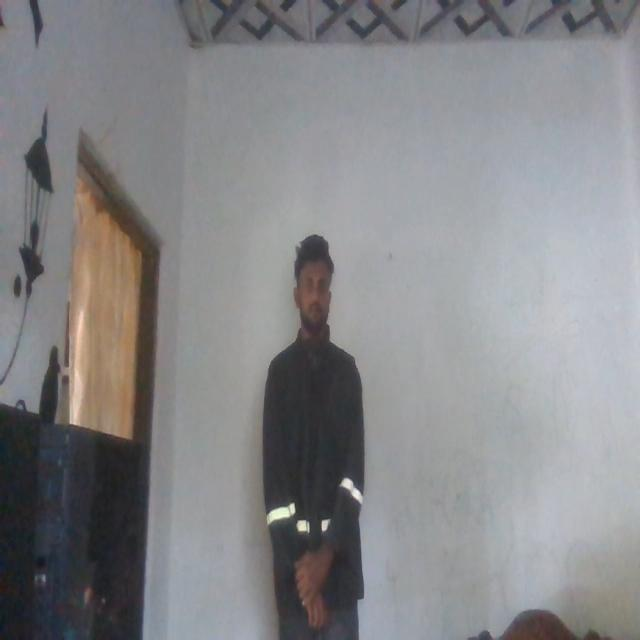Jacket_Wearer: (254, 331, 368, 606)
Person: (253, 232, 365, 640)
